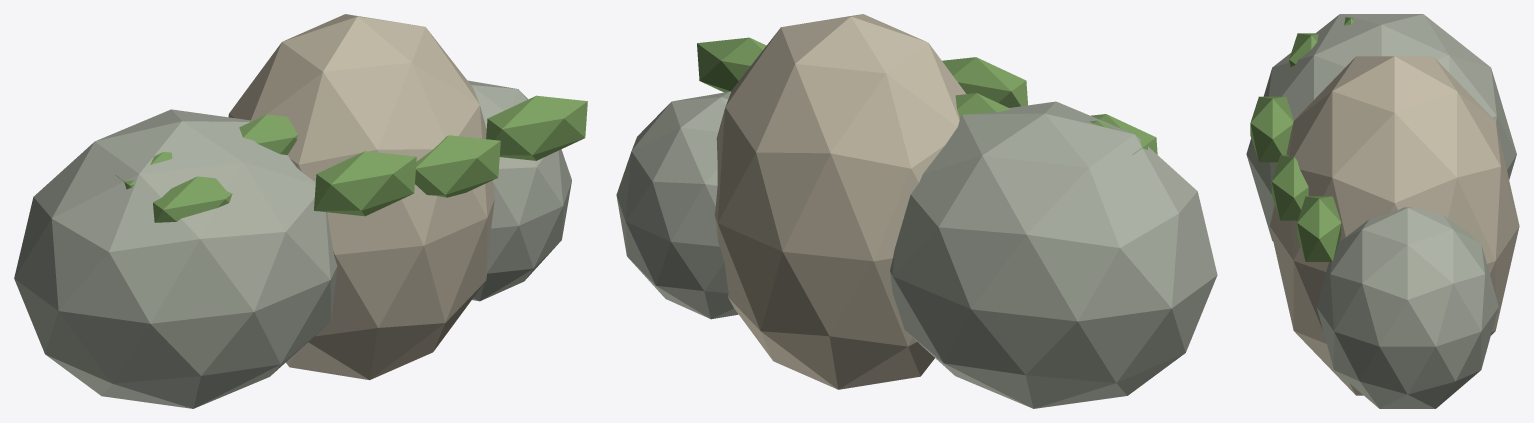
The model's file is mdl_env_moss_boulder_cluster.glb.
3 views of the same model, side by side, from view 1: azimuth 30°, elevation 25°; view 2: azimuth 150°, elevation 25°; view 3: azimuth 270°, elevation 25° (orthographic). The views are drawn at different scales.
Visible parts, largest first — view 1: Weathered river rock, Weathered river rock.001, Weathered river rock.002, Moss patch.002, Moss patch, Moss patch.005, Moss patch.004, Moss patch.006; view 2: Weathered river rock, Weathered river rock.001, Weathered river rock.002, Moss patch, Moss patch.002, Moss patch.006, Moss patch.004; view 3: Weathered river rock.001, Weathered river rock.002, Weathered river rock, Moss patch, Moss patch.002, Moss patch.005, Moss patch.004.
Part boxes in pixels (x1,y1,x2,y2): Weathered river rock: (14, 109, 337, 408); Weathered river rock.001: (228, 14, 494, 380); Weathered river rock.002: (467, 80, 571, 301); Moss patch.002: (314, 151, 416, 216); Moss patch: (486, 95, 587, 160); Moss patch.005: (415, 135, 500, 197); Moss patch.004: (153, 176, 232, 222); Moss patch.006: (239, 114, 297, 155); Weathered river rock: (890, 101, 1217, 408); Weathered river rock.001: (714, 14, 966, 389); Weathered river rock.002: (616, 91, 738, 319); Moss patch: (697, 37, 766, 92); Moss patch.002: (942, 57, 1027, 107); Moss patch.006: (955, 93, 1010, 116); Moss patch.004: (1091, 114, 1157, 154); Weathered river rock.001: (1270, 56, 1519, 395); Weathered river rock.002: (1316, 207, 1498, 408); Weathered river rock: (1246, 14, 1516, 241); Moss patch: (1297, 196, 1341, 261); Moss patch.002: (1250, 96, 1293, 162); Moss patch.005: (1271, 155, 1308, 220); Moss patch.004: (1289, 33, 1318, 66).
Size of the model in its own units: 2.23 by 1.44 by 1.05.
